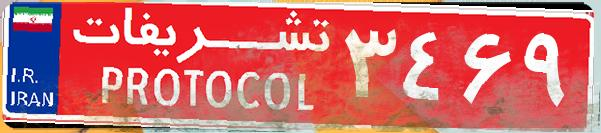3: (340, 20, 400, 115)
4: (400, 20, 460, 115)
6: (460, 20, 520, 115)
9: (520, 20, 580, 115)
تشریفات: (60, 8, 340, 125)
